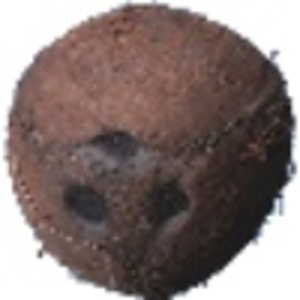coco: (5, 1, 298, 300)
